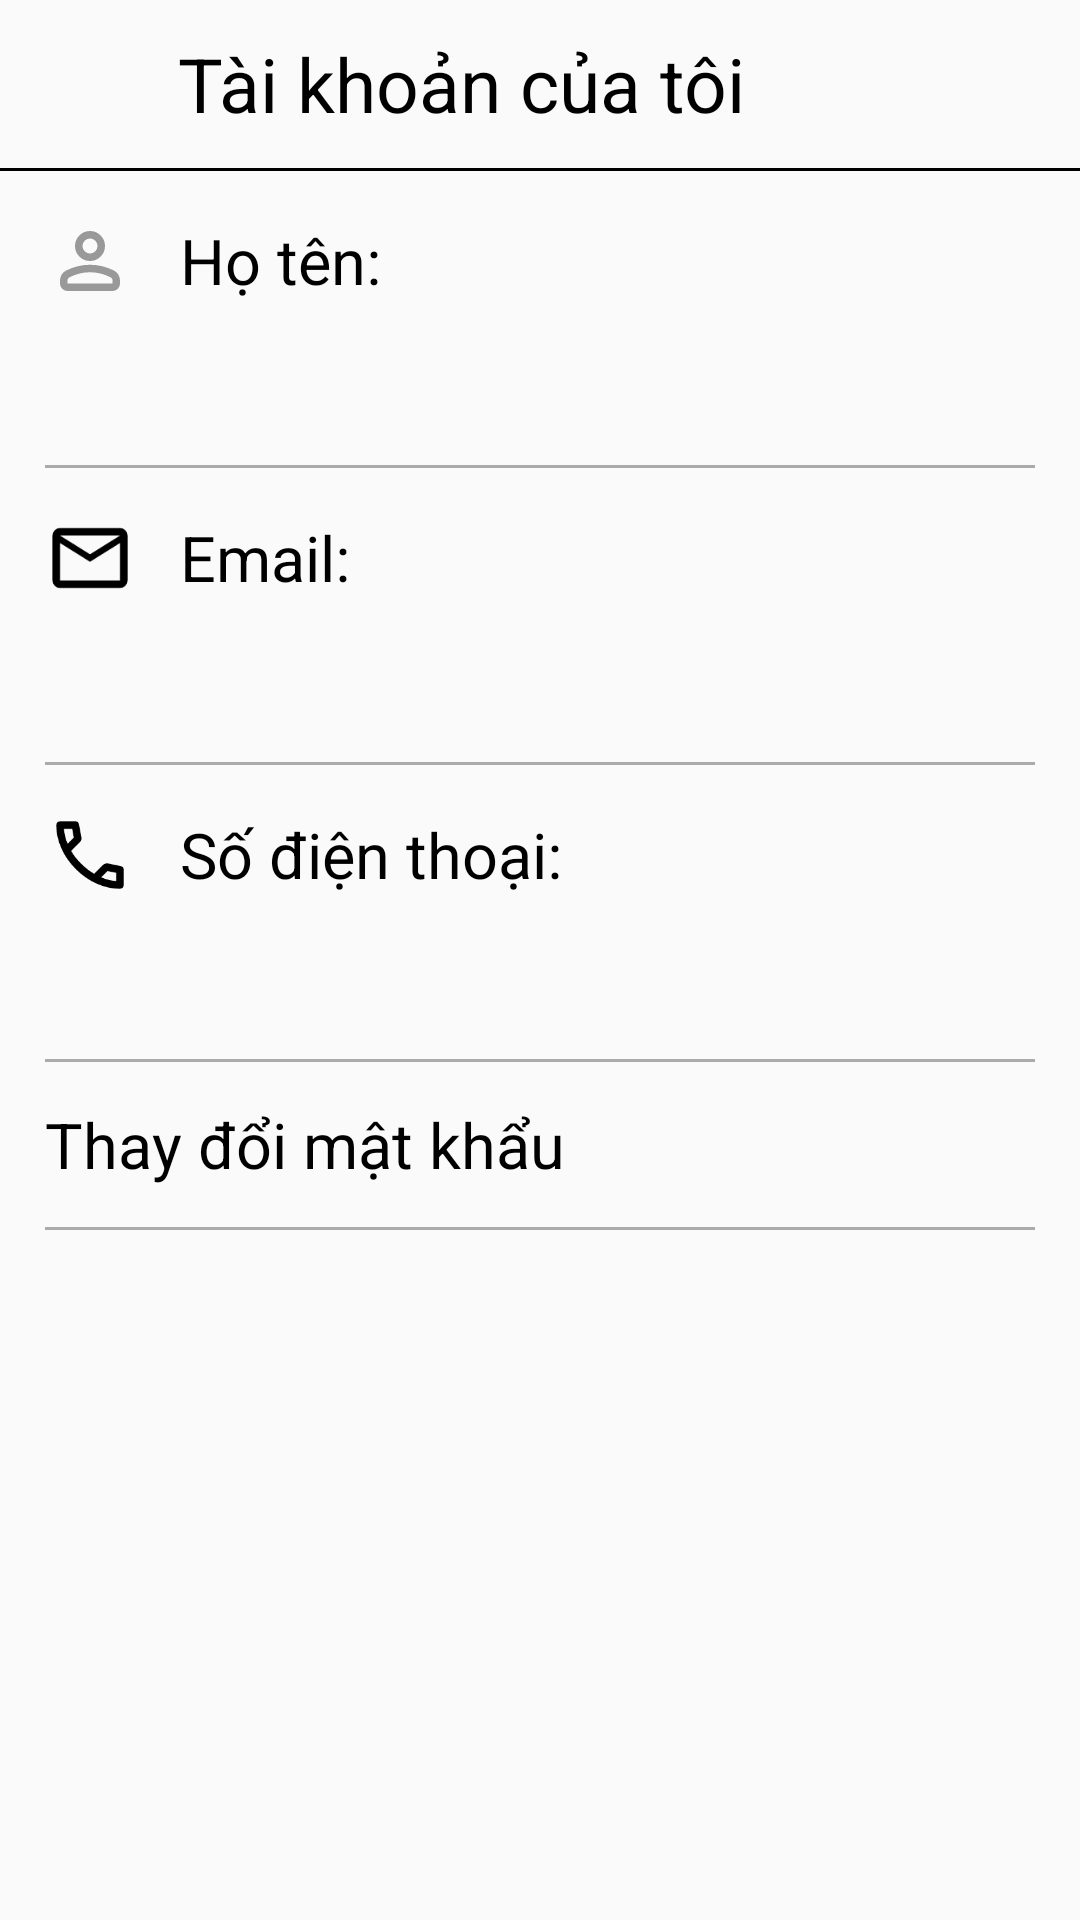

Icons on this 1080 x 1920 Android screen, each with its box as (x1, y1, x2, y2):
call: (56, 821, 124, 889)
person: (60, 231, 120, 291)
